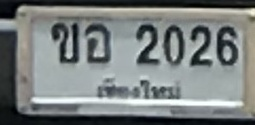txt02: (49, 21, 82, 66)
txt38: (83, 21, 113, 66)
